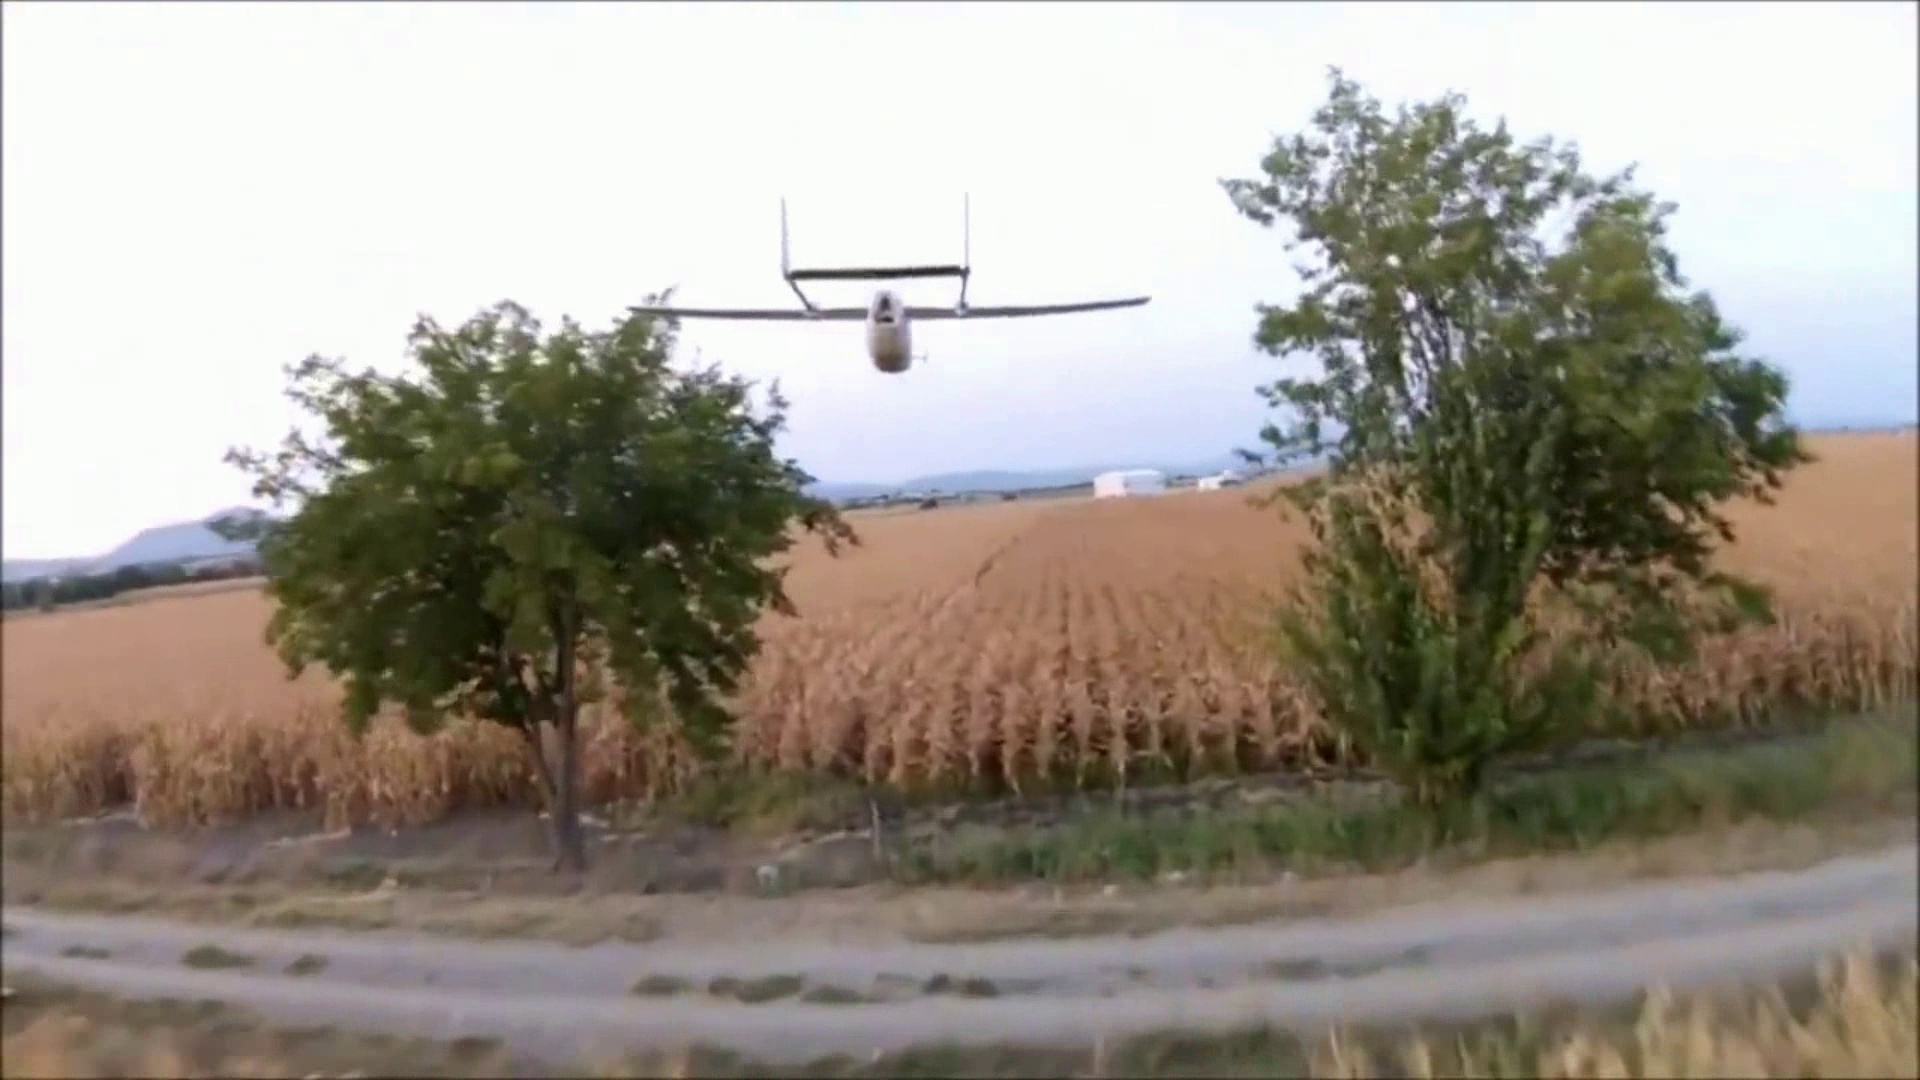airplane: (624, 193, 1153, 371)
